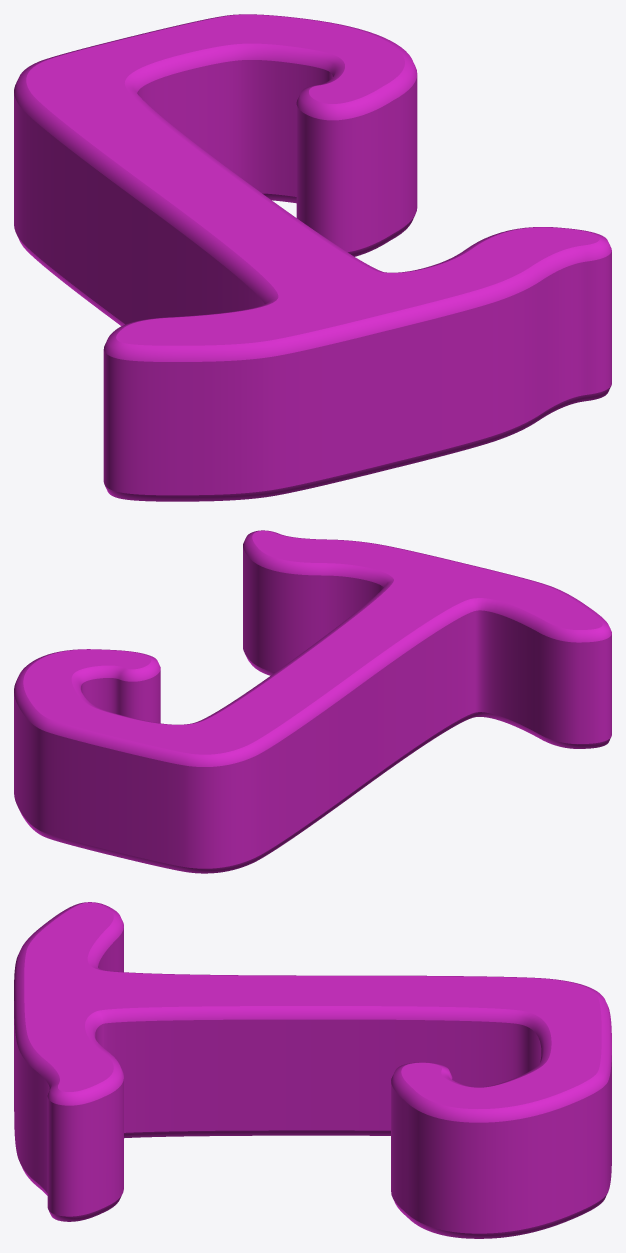
Rendered from Letter_J.fbx.
3 renders of one model, top to bottom at view 1: azimuth 30°, elevation 25°; view 2: azimuth 150°, elevation 25°; view 3: azimuth 270°, elevation 25°, orthographic. The views are drawn at different scales.
Parts seen in each view (by area): view 1: Letter_J; view 2: Letter_J; view 3: Letter_J.
Boxes of the visible parts, bbox=[...] form: Letter_J: bbox=[14, 14, 611, 501]; Letter_J: bbox=[14, 530, 611, 873]; Letter_J: bbox=[14, 902, 611, 1238].
Size of the model in its own units: 0.4997 by 0.14 by 0.5864.
